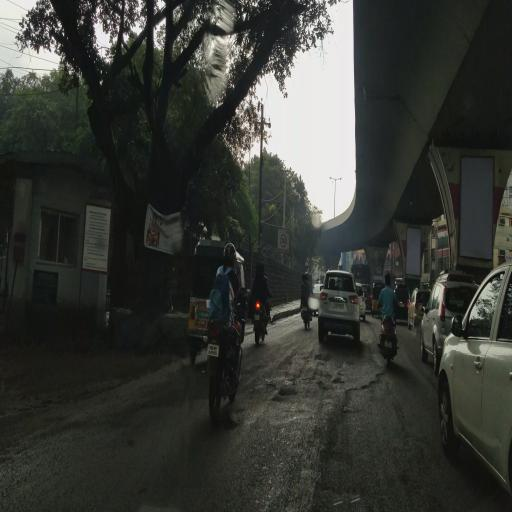street_light_0: (332, 168, 342, 186), (324, 168, 334, 186)
